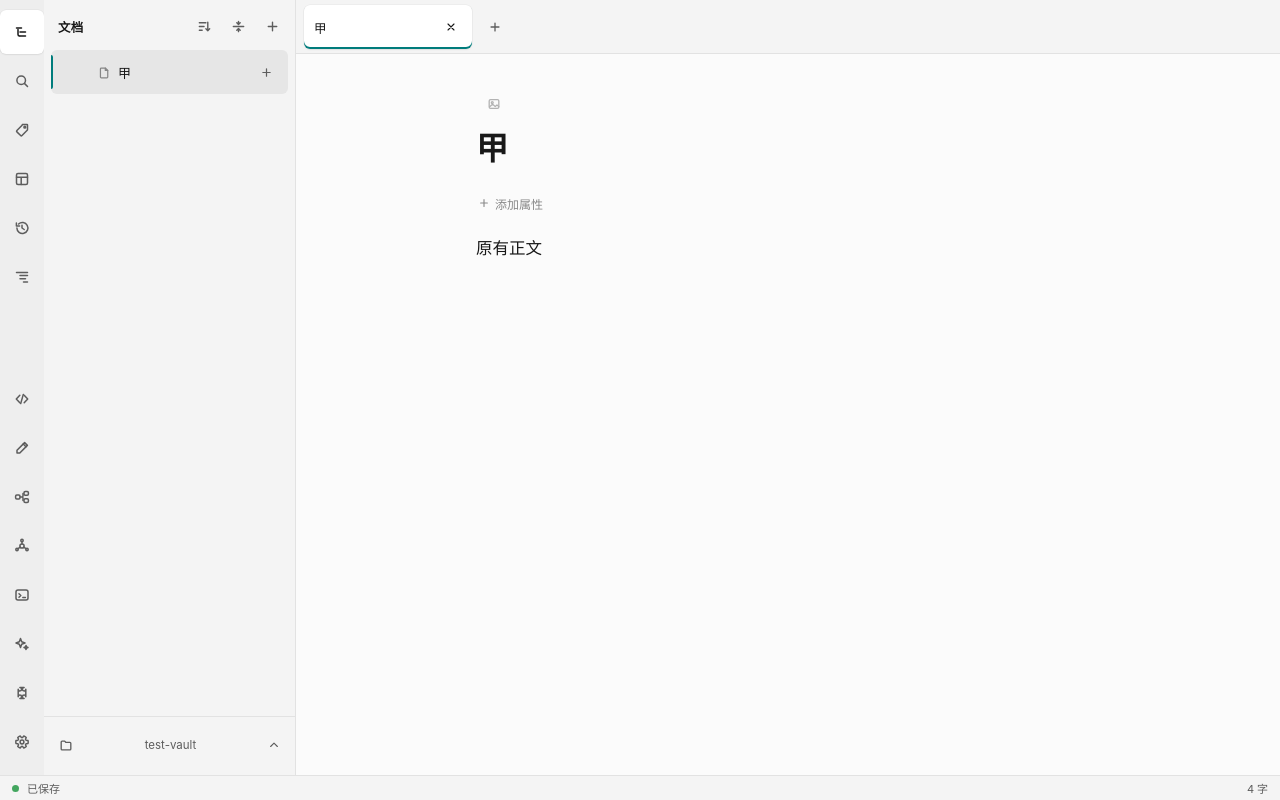
it: 插入模板 › {{cursor}} 决定插完光标停在哪
Click the button named "命令面板".
click(22, 693)  # box [0,671,44,715]
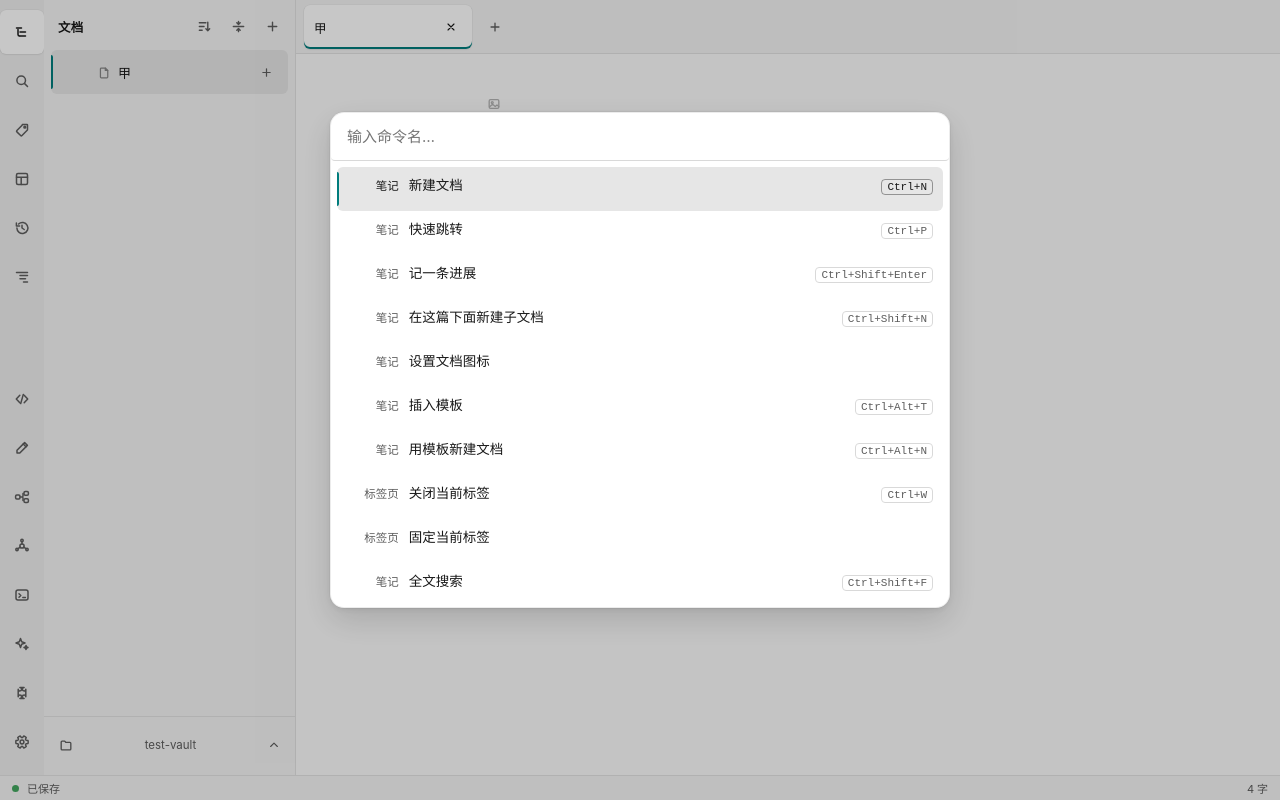
Result: the button "笔记 插入模板 Ctrl+Alt+T" is shown
Click the button "笔记 插入模板 Ctrl+Alt+T".
click(436, 405)  # box [337,387,943,431]
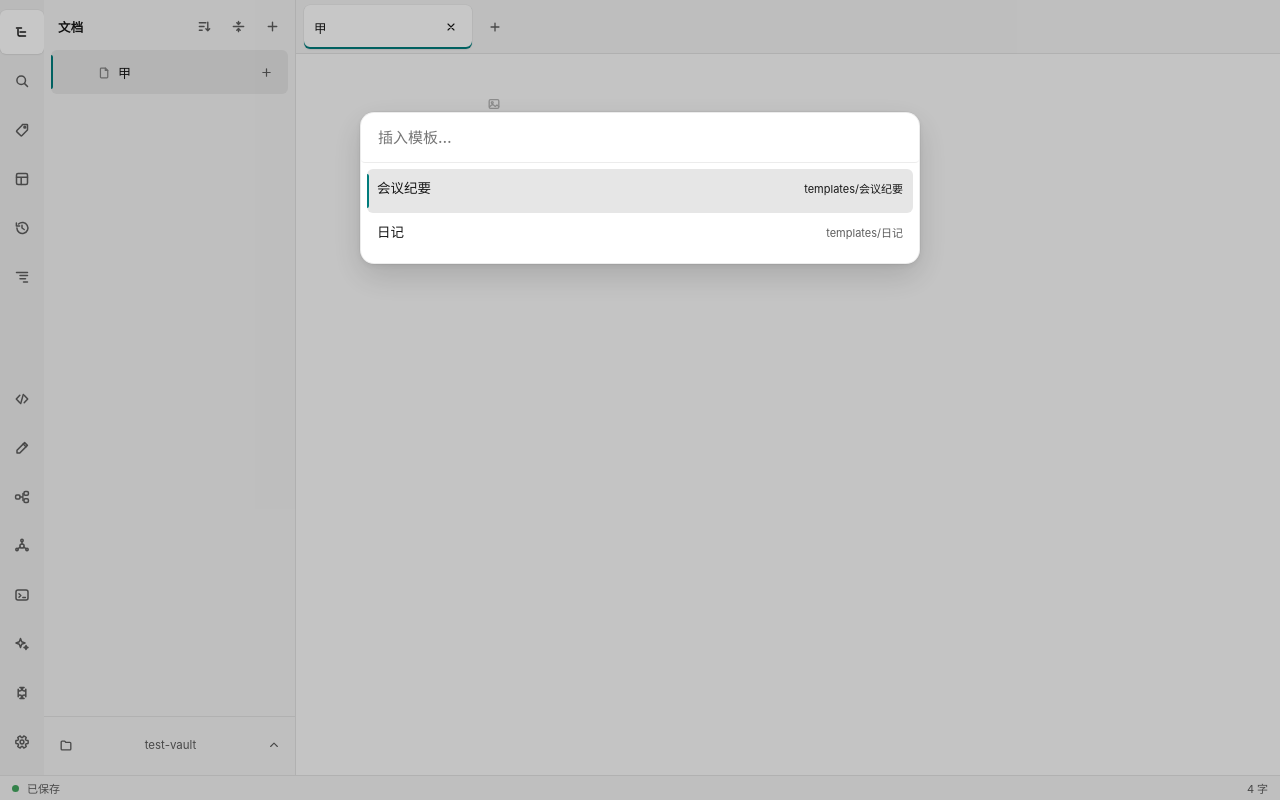
Result: the text "会议纪要" is shown
Press the mouse on the text "会议纪要" at [404, 187], box [377,177,431,197]
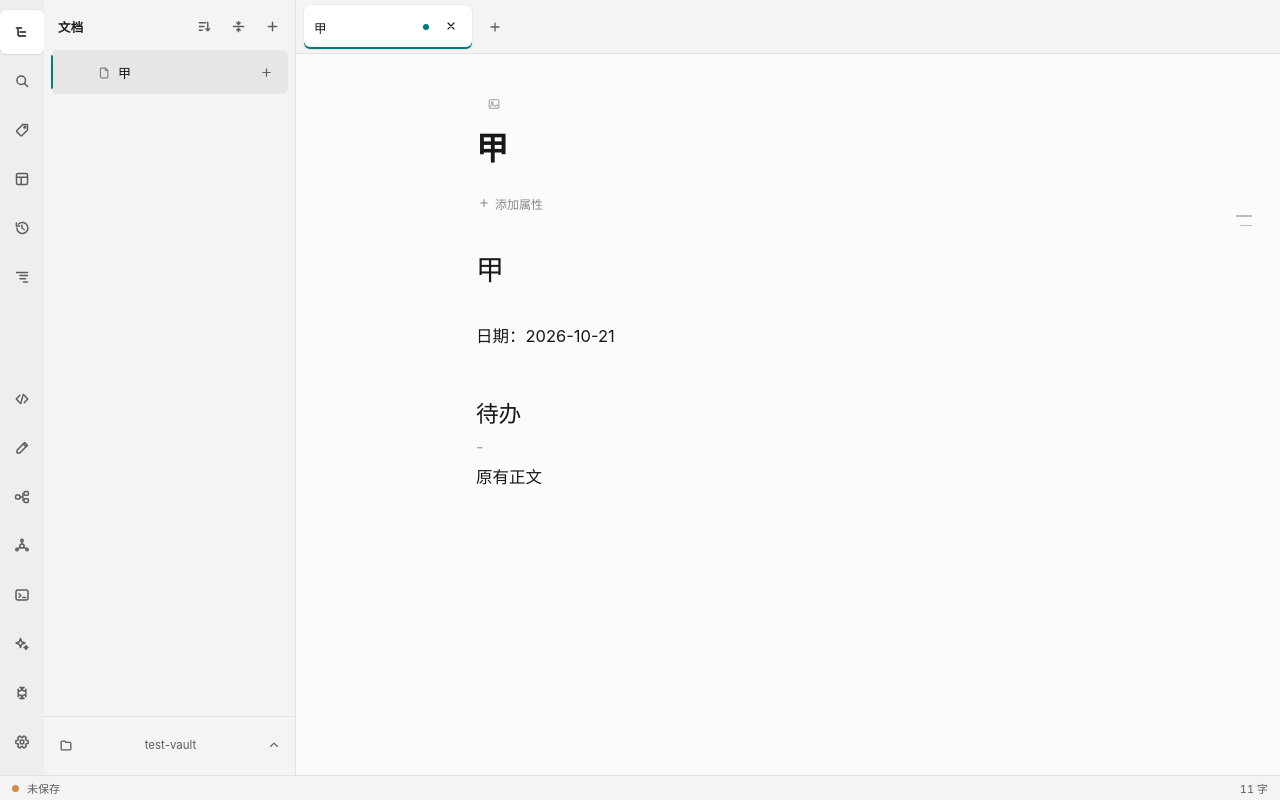
Result: the field with class "cm-content" shows "待办" at [476,253,615,487]
Type keys "补材料"
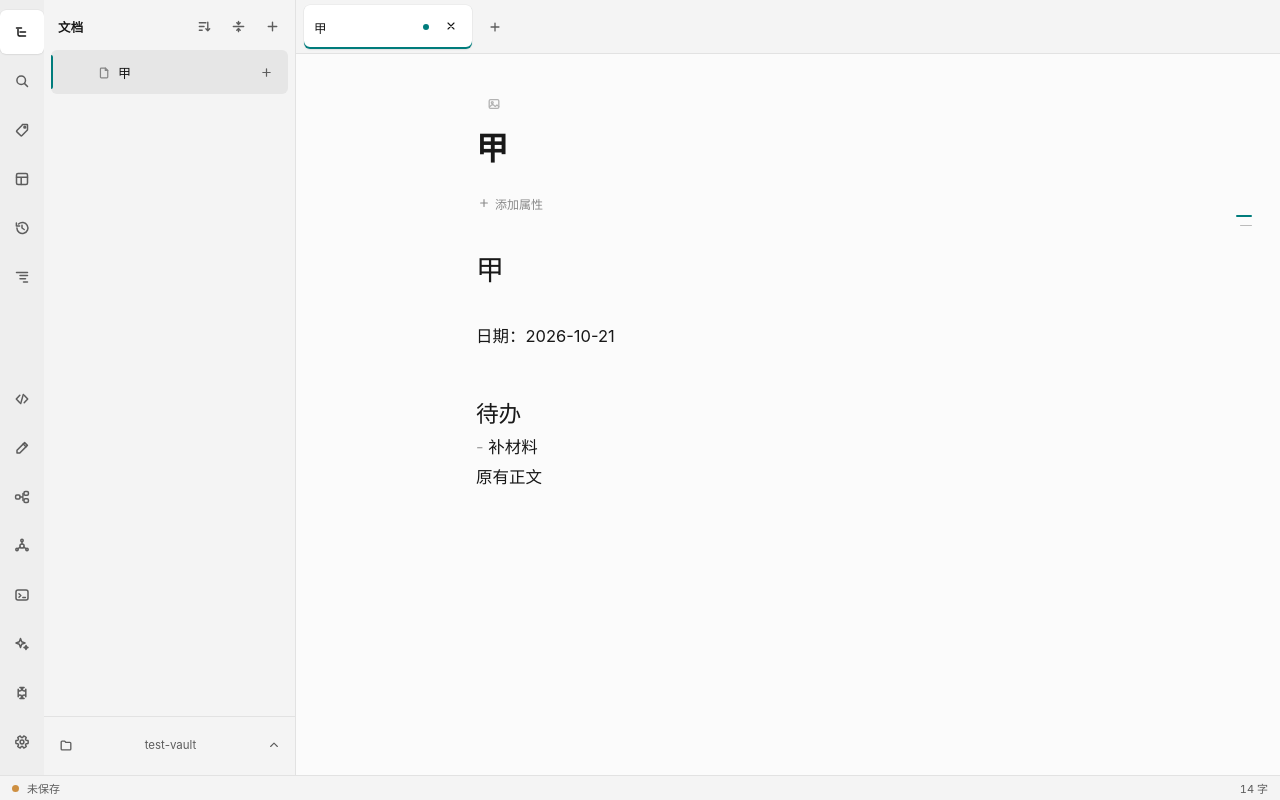
Result: the field with class "cm-content" shows "- 补材料" at [476,253,615,487]
